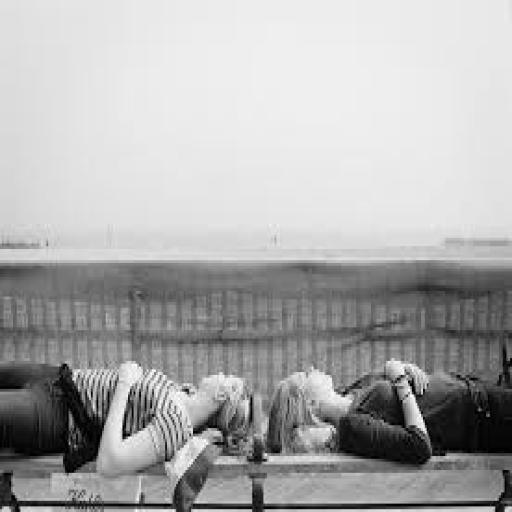sleeping: (264, 353, 510, 467)
